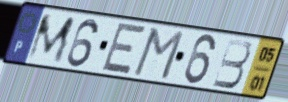6: (183, 33, 217, 86), (66, 17, 100, 69)
B: (210, 37, 253, 91)
E: (98, 21, 148, 77)
M: (130, 27, 187, 83), (24, 13, 78, 65)
